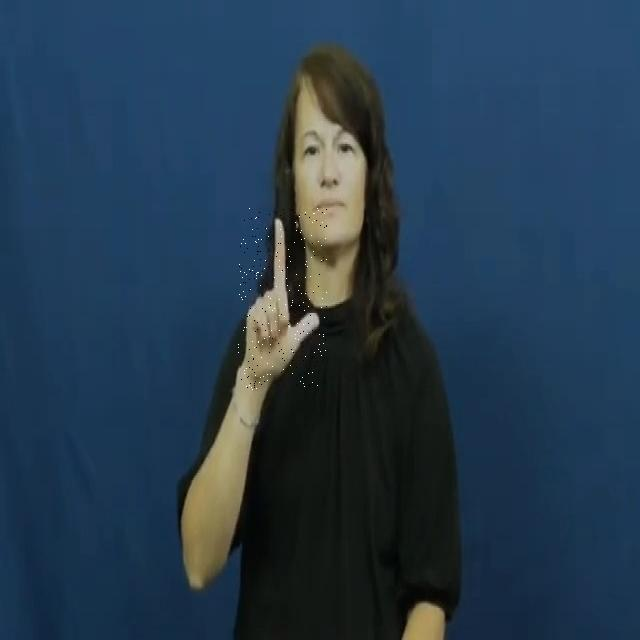enjoy: (238, 208, 327, 390)
